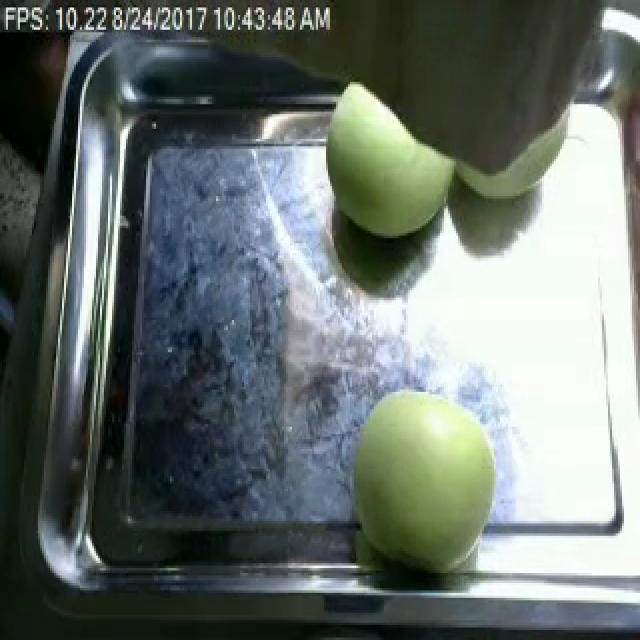50-_ripeness: (360, 376, 509, 570)
